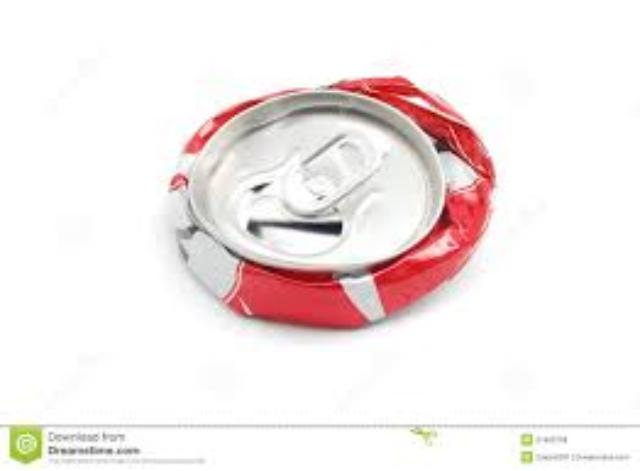metal: (169, 76, 489, 322)
